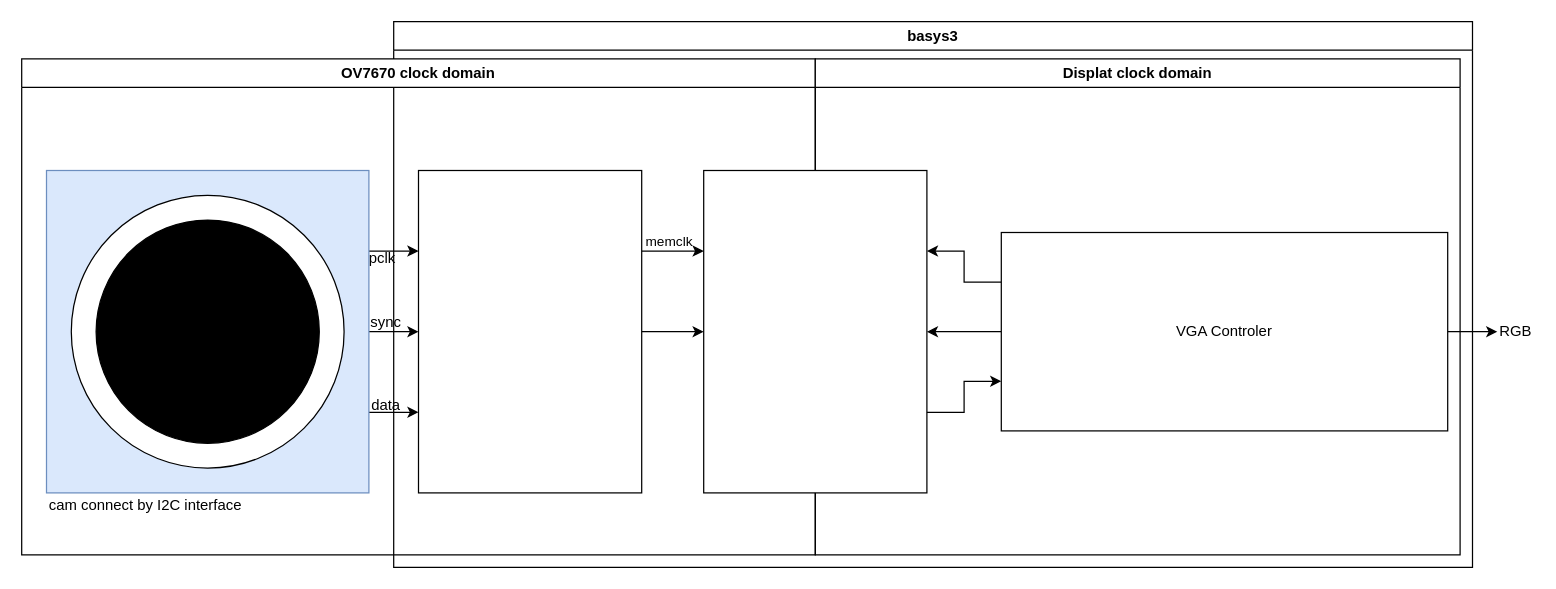
The diagram is 1556 pixels wide and 589 high, and some of its shapes have lost their labels. The centre of each missing label's shape, as x and y in pixels:
"MemControler" belongs at point (529, 331).
"VRAM" belongs at point (814, 331).
